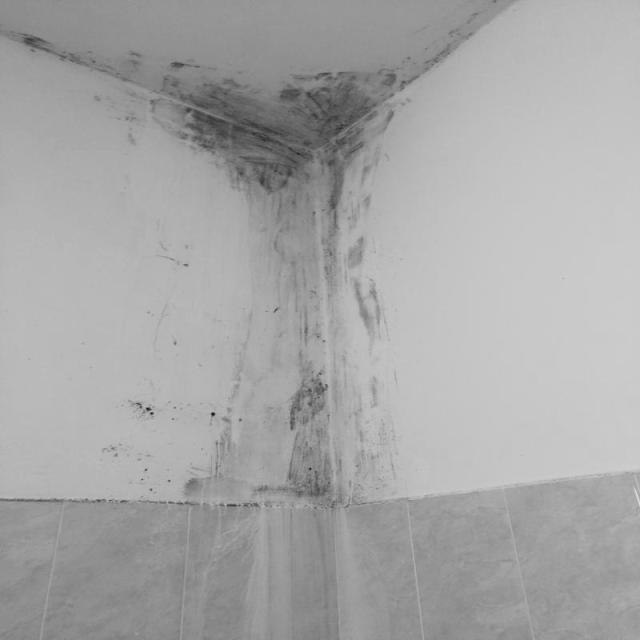stain marks: (18, 18, 418, 506)
